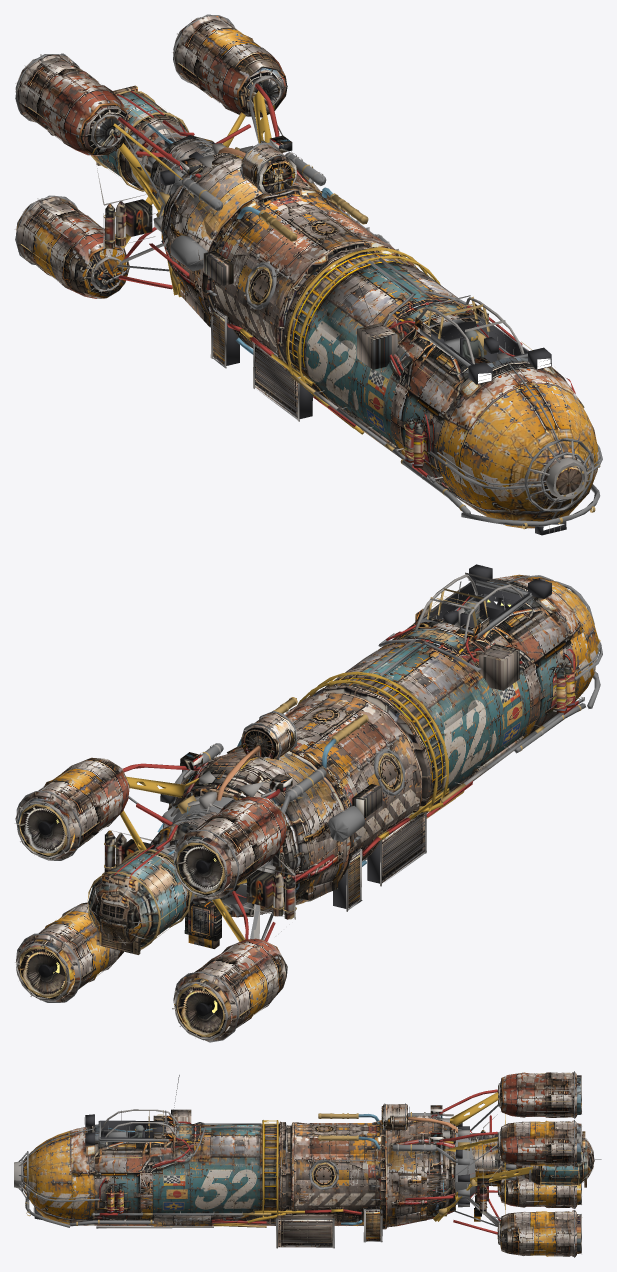
The model's file is bidon52_lod_carte.glb.
The picture shows the model from 3 angles, top to bottom: view 1: azimuth 30°, elevation 25°; view 2: azimuth 150°, elevation 25°; view 3: azimuth 270°, elevation 25°; orthographic projection. The views are drawn at different scales.
Visible parts, largest first — view 1: BD_hull, BD_eng_UR, BD_eng_LR, BD_eng_UL, BD_tanks, BD_pipe, BD_cage, BD_cockpit, BD_pod, BD_rad, BD_struct, BD_fan (+3 smaller); view 2: BD_hull, BD_pod, BD_tanks, BD_eng_LR, BD_eng_UL, BD_eng_UR, BD_eng_LL, BD_pipe, BD_cockpit, BD_rad, BD_core, BD_fan (+4 smaller); view 3: BD_hull, BD_pipe, BD_eng_UL, BD_eng_LL, BD_eng_UR, BD_rad, BD_core, BD_tanks, BD_pod, BD_eng_LR, BD_cockpit, BD_struct (+4 smaller).
Boxes of the visible parts, left/top/right/bottom form: BD_hull: left=161, top=151, right=599, bottom=528; BD_eng_UR: left=15, top=53, right=129, bottom=155; BD_eng_LR: left=14, top=195, right=129, bottom=298; BD_eng_UL: left=172, top=14, right=287, bottom=117; BD_tanks: left=96, top=125, right=575, bottom=467; BD_pipe: left=118, top=83, right=522, bottom=513; BD_cage: left=429, top=362, right=602, bottom=529; BD_cockpit: left=414, top=295, right=528, bottom=367; BD_pod: left=91, top=85, right=245, bottom=191; BD_rad: left=210, top=308, right=312, bottom=421; BD_struct: left=113, top=91, right=271, bottom=297; BD_fan: left=240, top=142, right=296, bottom=193; BD_hull: left=157, top=574, right=599, bottom=917; BD_pod: left=87, top=746, right=260, bottom=954; BD_tanks: left=104, top=644, right=576, bottom=936; BD_eng_LR: left=172, top=938, right=287, bottom=1042; BD_eng_UL: left=14, top=757, right=129, bottom=860; BD_eng_UR: left=172, top=796, right=287, bottom=899; BD_eng_LL: left=15, top=902, right=123, bottom=1002; BD_pipe: left=123, top=624, right=585, bottom=941; BD_cockpit: left=414, top=572, right=532, bottom=642; BD_rad: left=333, top=812, right=426, bottom=911; BD_core: left=150, top=791, right=275, bottom=916; BD_fan: left=185, top=711, right=297, bottom=786; BD_hull: left=23, top=1115, right=455, bottom=1229; BD_pipe: left=70, top=1089, right=501, bottom=1234; BD_eng_UL: left=497, top=1120, right=581, bottom=1167; BD_eng_LL: left=497, top=1210, right=582, bottom=1257; BD_eng_UR: left=497, top=1071, right=581, bottom=1118; BD_rad: left=276, top=1209, right=382, bottom=1248; BD_core: left=455, top=1126, right=502, bottom=1207; BD_tanks: left=99, top=1075, right=501, bottom=1218; BD_pod: left=408, top=1117, right=601, bottom=1221; BD_eng_LR: left=497, top=1175, right=581, bottom=1208; BD_cockpit: left=98, top=1109, right=179, bottom=1141; BD_struct: left=433, top=1092, right=533, bottom=1226.
Bounding box in the file's own units: 13.22 × 11.97 × 47.73.
Materials: 18 (2 with a texture image).
